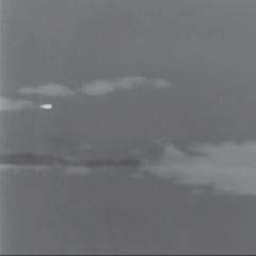Target: (38, 102, 53, 109)
